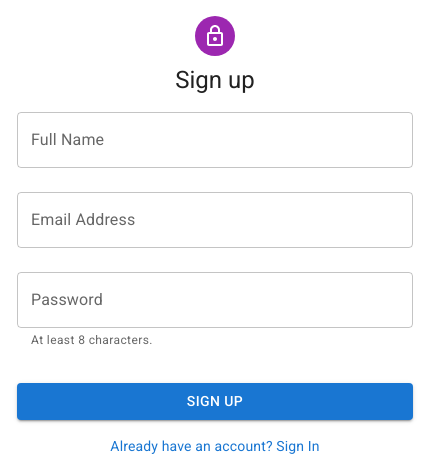
<Signup /> › enforces the same minimum password length as the API
Step 1. Type "Ada Okafor" into the field labelled "Full Name" → (215, 140), box [17,112,413,168]
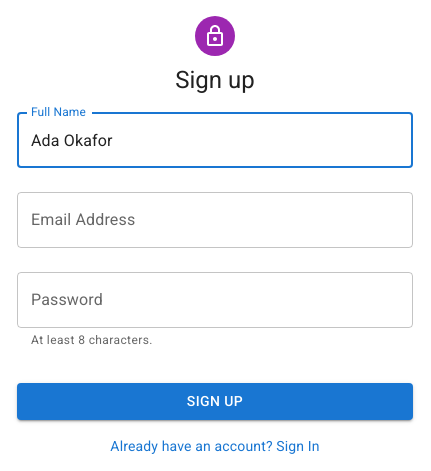
Step 2. Type "ada@example.com" into the field labelled "Email Address" → (215, 220), box [17,192,413,248]
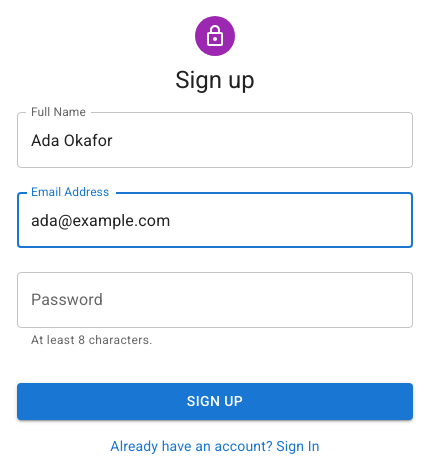
Step 3. Type "short" into the password field labelled "Password" → (215, 300), box [17,272,413,328]
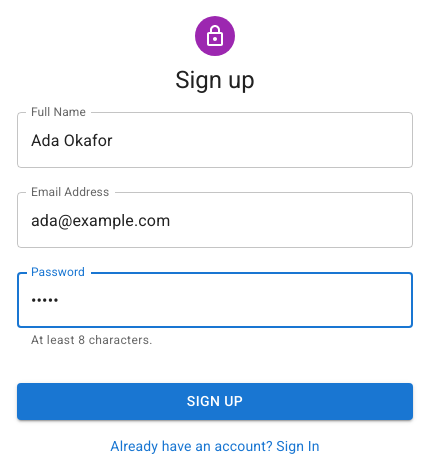
Step 4. Click the button "Sign Up" → (215, 401), box [17,383,413,420]
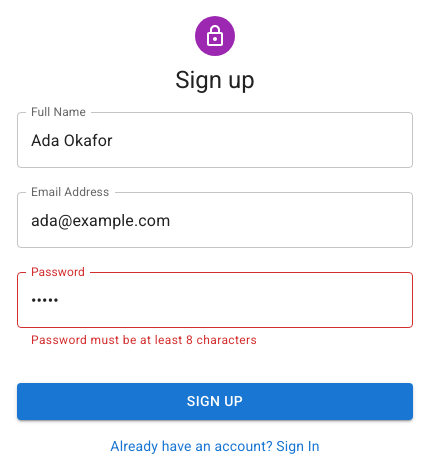
Result: the text "Password must be at least 8 characters" is shown at [31,333,257,347]
